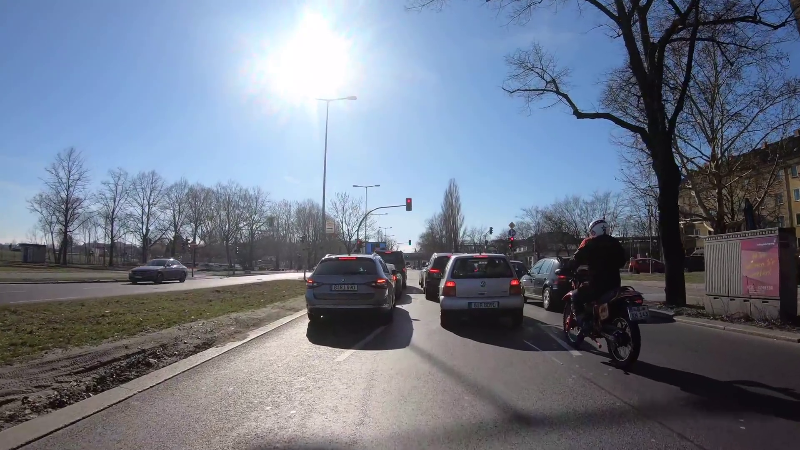Plate: (328, 282, 359, 293), (466, 301, 500, 309)
